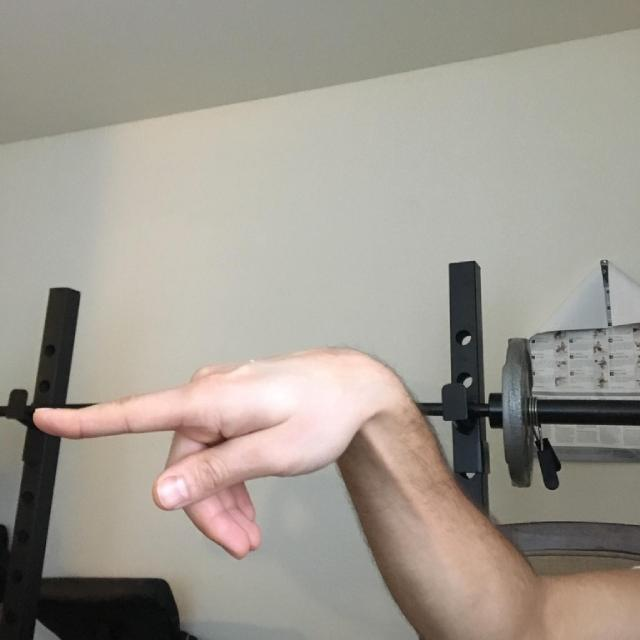P: (25, 299, 453, 596)
